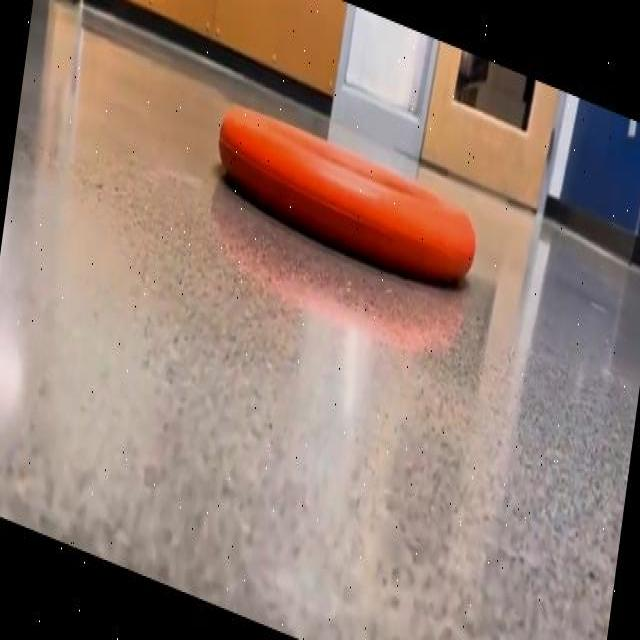note: (221, 106, 476, 284)
